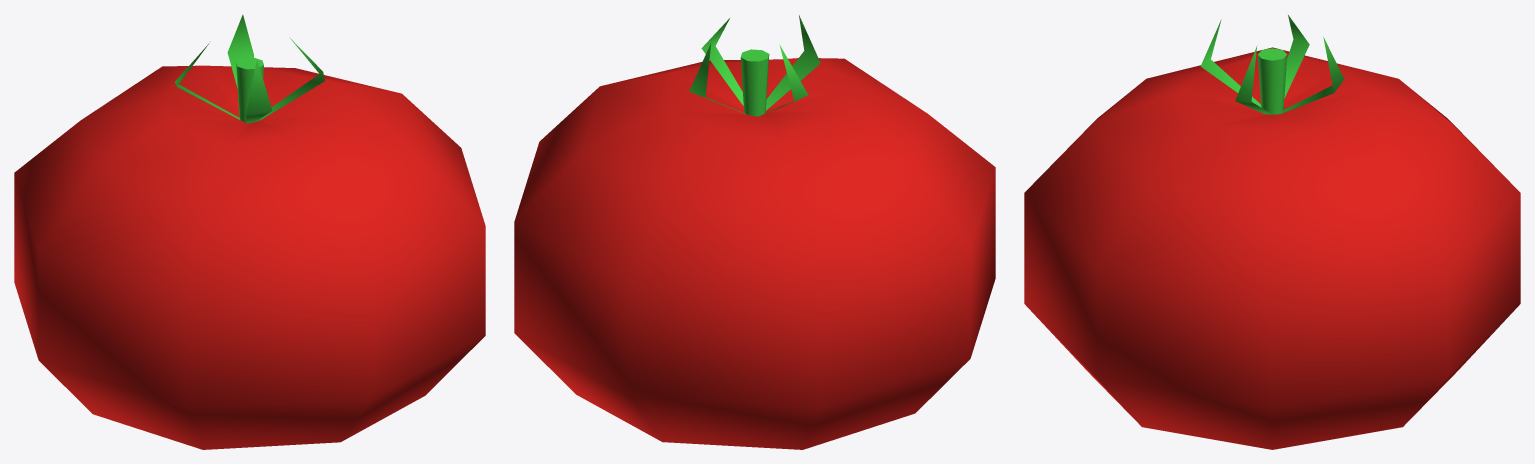
The model's file is tomato_with_material.obj.
3 renders of one model, left to right at view 1: azimuth 30°, elevation 25°; view 2: azimuth 150°, elevation 25°; view 3: azimuth 270°, elevation 25°, orthographic. The views are drawn at different scales.
Visible parts, largest first — view 1: Tomato.001; view 2: Tomato.001; view 3: Tomato.001.
Boxes of the visible parts, x1,y1,x2,y2 form: Tomato.001: (14, 14, 485, 449); Tomato.001: (514, 15, 995, 449); Tomato.001: (1024, 15, 1520, 449).
Bounding box in the file's own units: 1.76 × 1.48 × 1.76.
